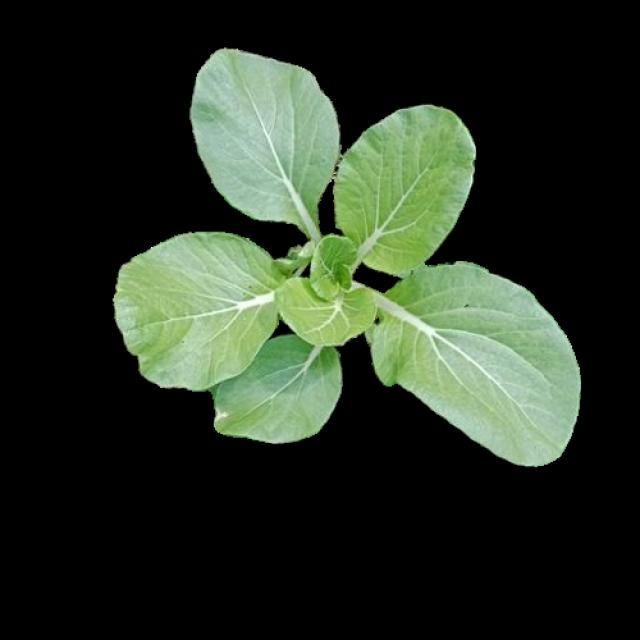healthy: (112, 46, 580, 462)
not-mature: (115, 48, 582, 464)
